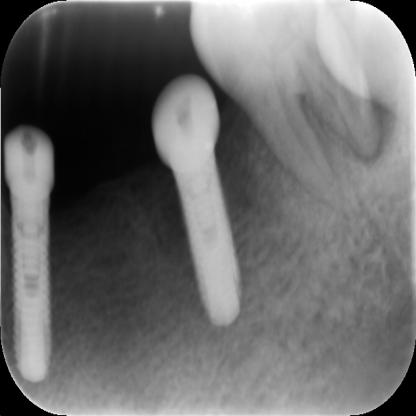Bego: (182, 157, 244, 339), (11, 202, 64, 376)
